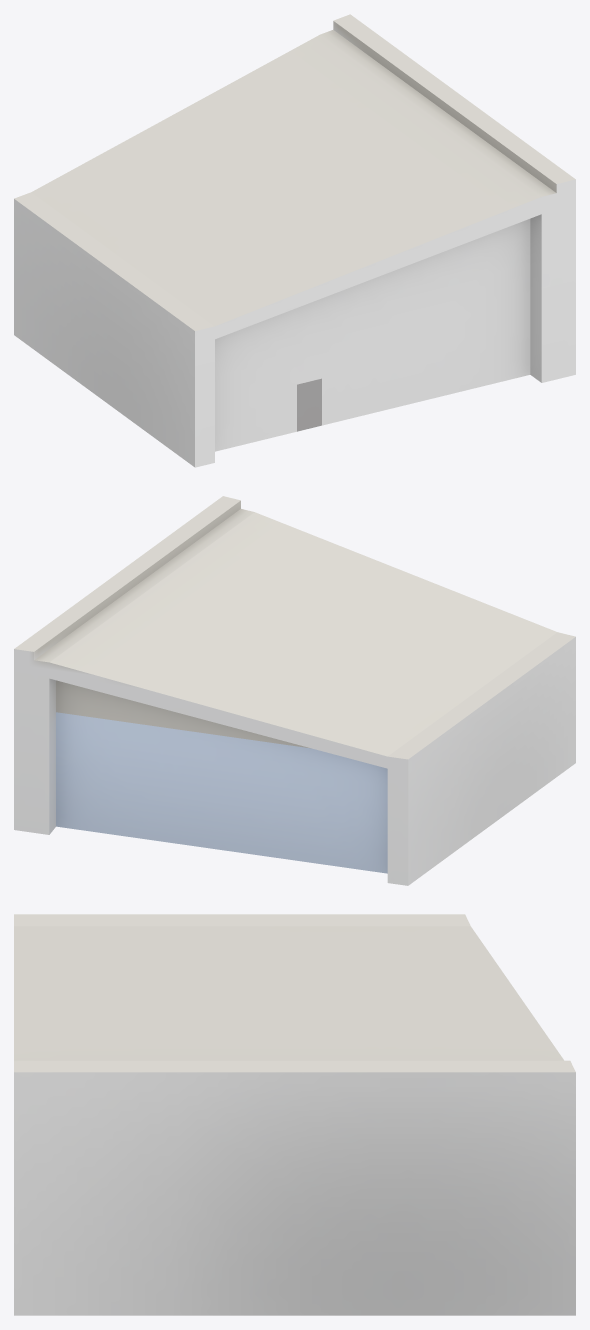
3 renders of one model, top to bottom at view 1: azimuth 30°, elevation 25°; view 2: azimuth 150°, elevation 25°; view 3: azimuth 270°, elevation 25°, orthographic. The views are drawn at different scales.
Parts seen in each view (by area): view 1: 70030076454682828; view 2: 70030076454682828; view 3: 70030076454682828.
Boxes of the visible parts, box(x1,y1,x2,y2) form: 70030076454682828: box(14, 14, 575, 467); 70030076454682828: box(14, 496, 575, 885); 70030076454682828: box(14, 914, 575, 1315).
Size of the model in its own units: 19.31 by 9.46 by 19.82.
Materials: 1 (1 with a texture image).
